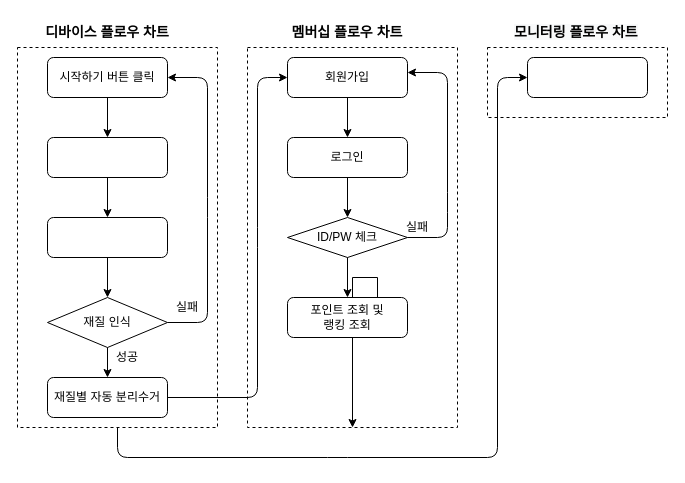
The diagram is 685 pixels wide and 483 high, and some of its shapes have lost their labels. The shapes that lost their labels are listed below. From the top down, each one's box as (x1, y1, x2, y2) in pixels, then its label:
(526, 56, 648, 98): 기기 위치 확인 실시간 수거 현황 확인
(46, 136, 168, 178): 휴대폰 번호 입력
(46, 216, 168, 258): 컵 투입 및 인식하기 버튼 클릭
